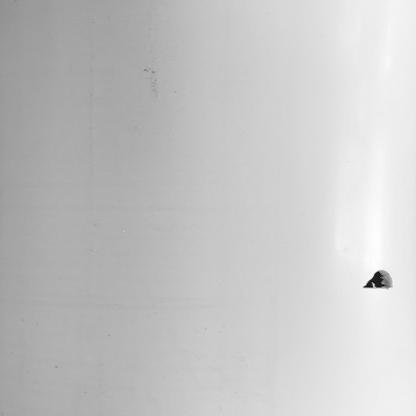kongdong: (350, 260, 405, 305)
